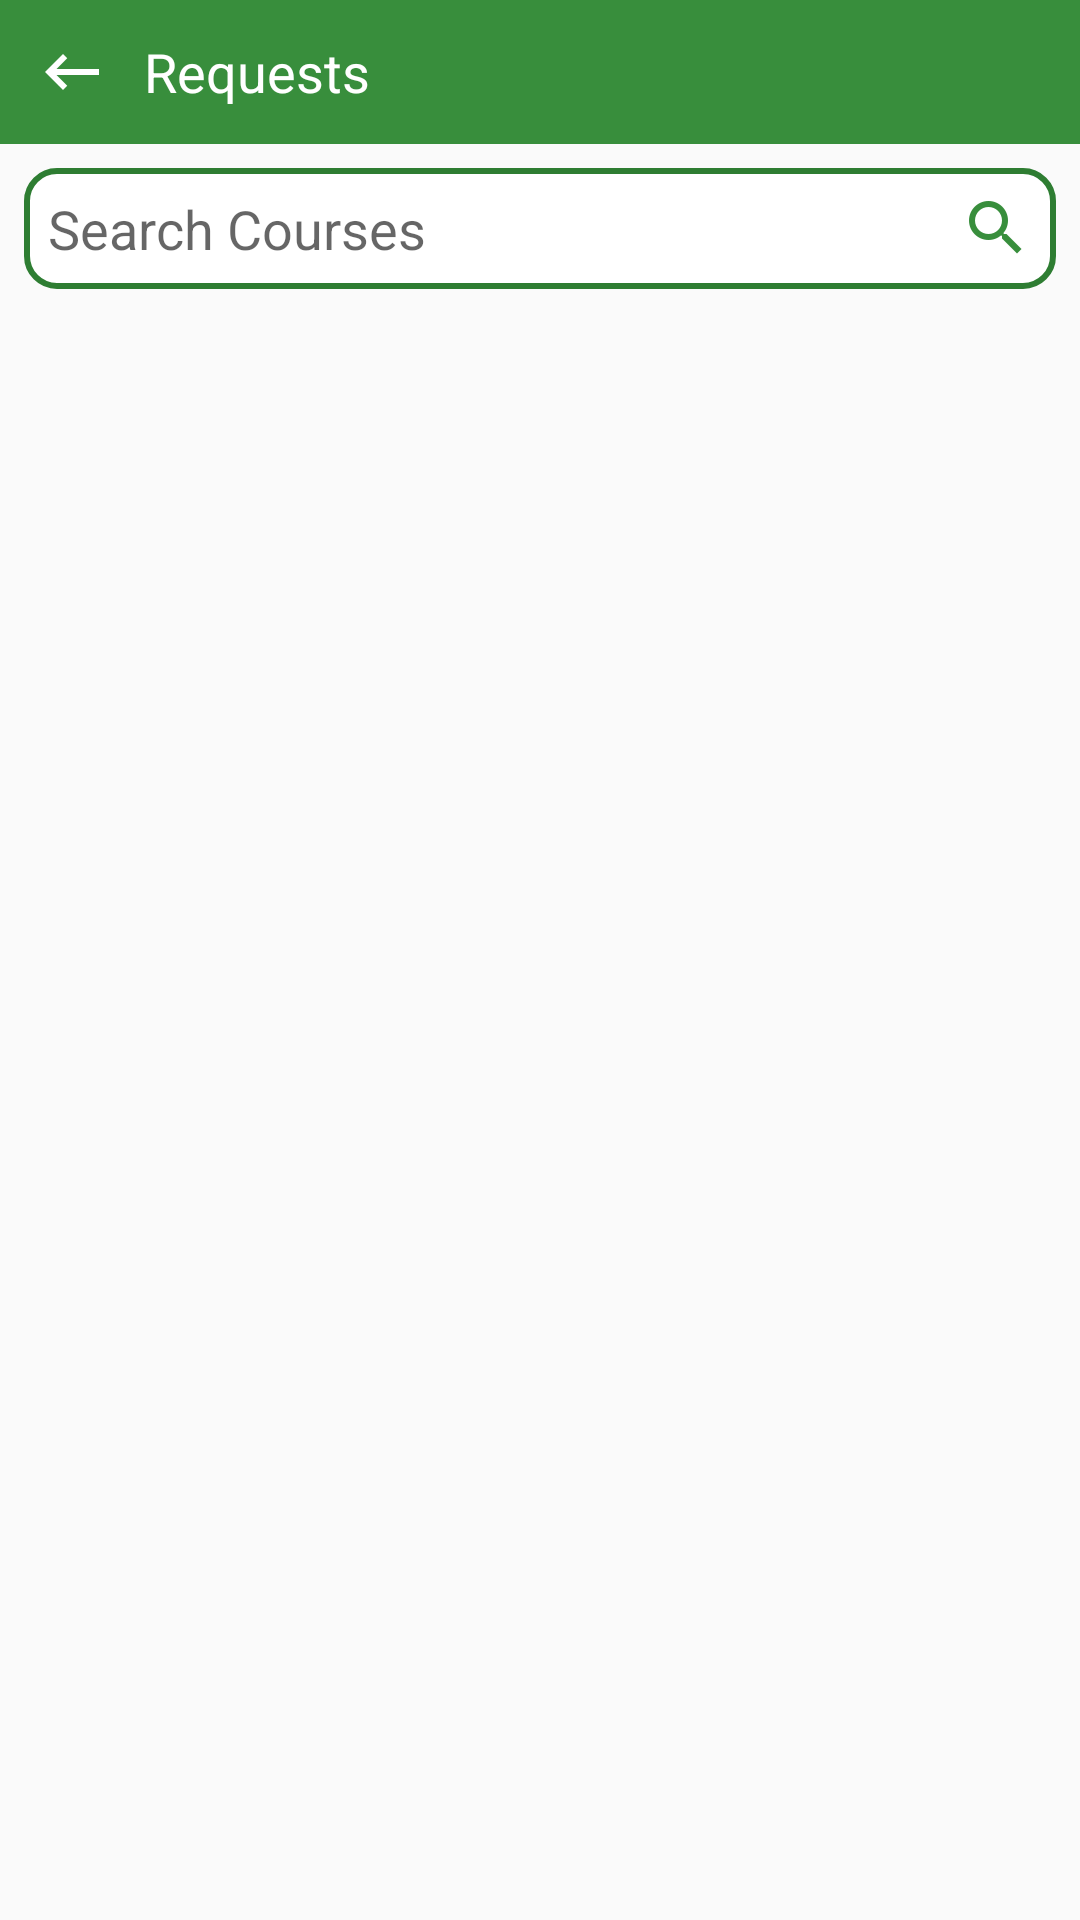

Named icons in this screenshot (1080x1920) and their centers, point (x, y):
keyboard backspace: point (72, 72)
